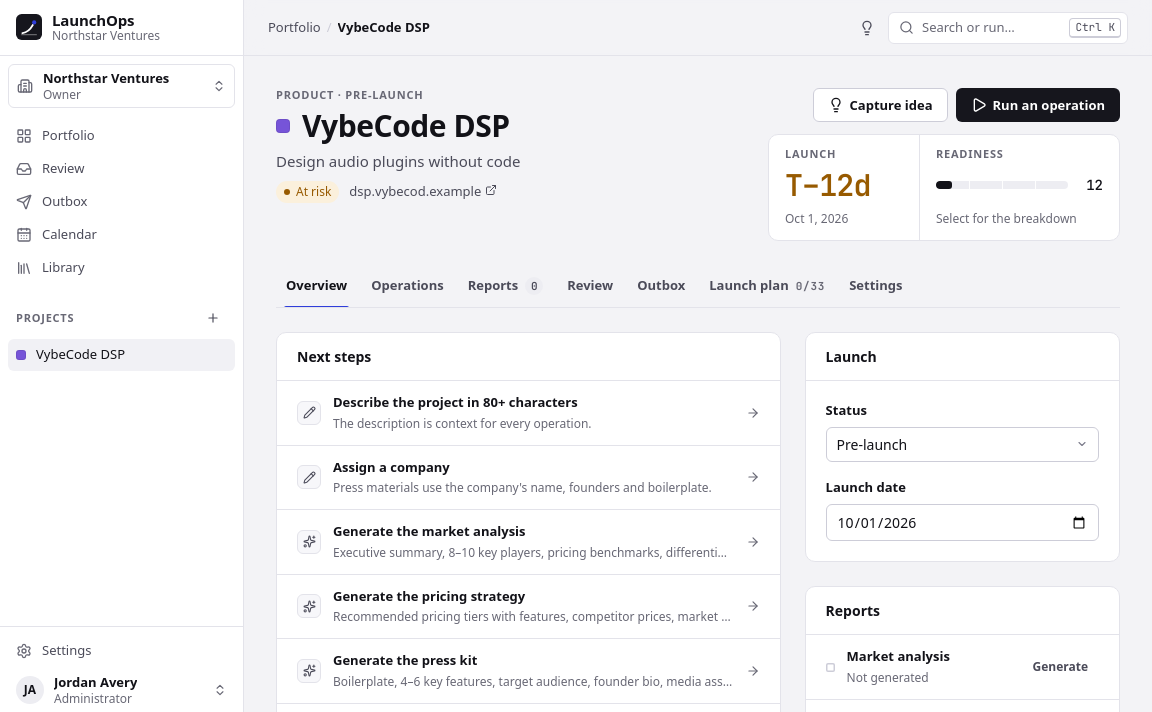
Scenario: Project overview › shows the T-minus clock and readiness breakdown
The width and height of the screenshot is (1152, 712).
Click the button "12" at (1020, 185), box [936, 175, 1103, 196]
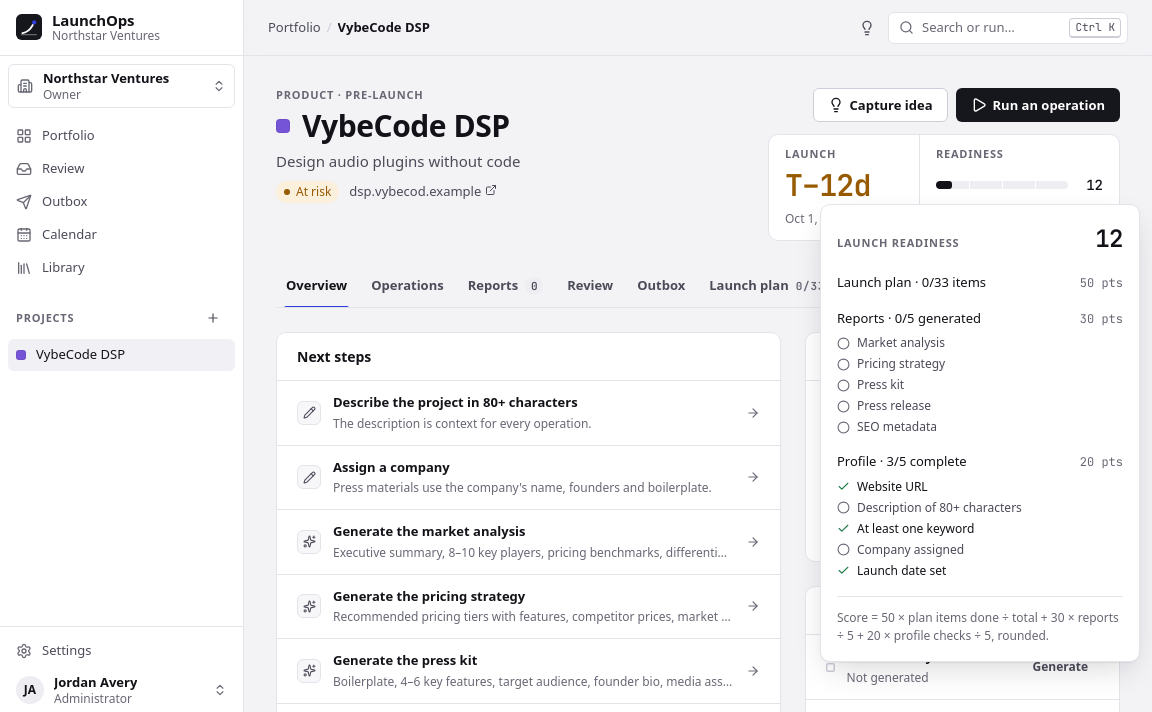
Result: the text "Score = 50 × plan items done" is shown at [837, 596, 1123, 644]
